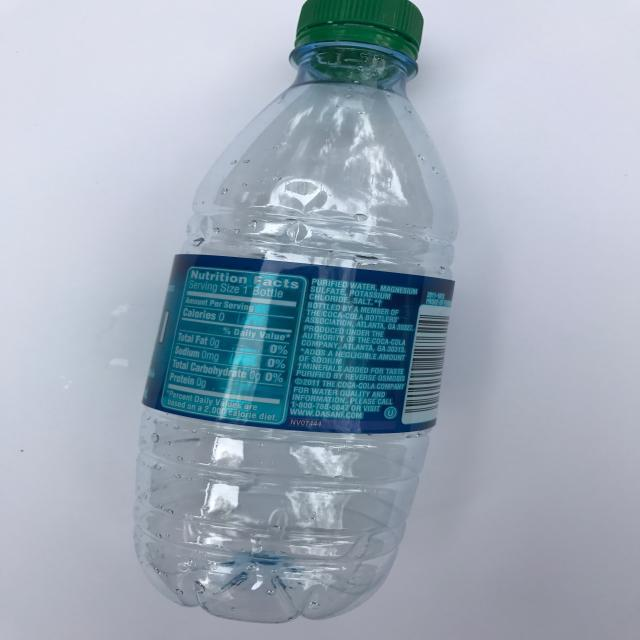plastic: (116, 1, 462, 624)
